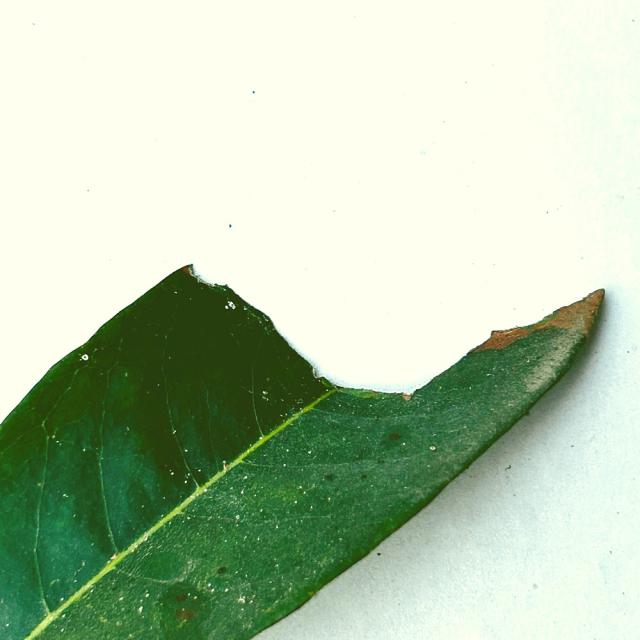Deficiency Leaf: (201, 251, 592, 395)
Lychee: (0, 266, 605, 639)
